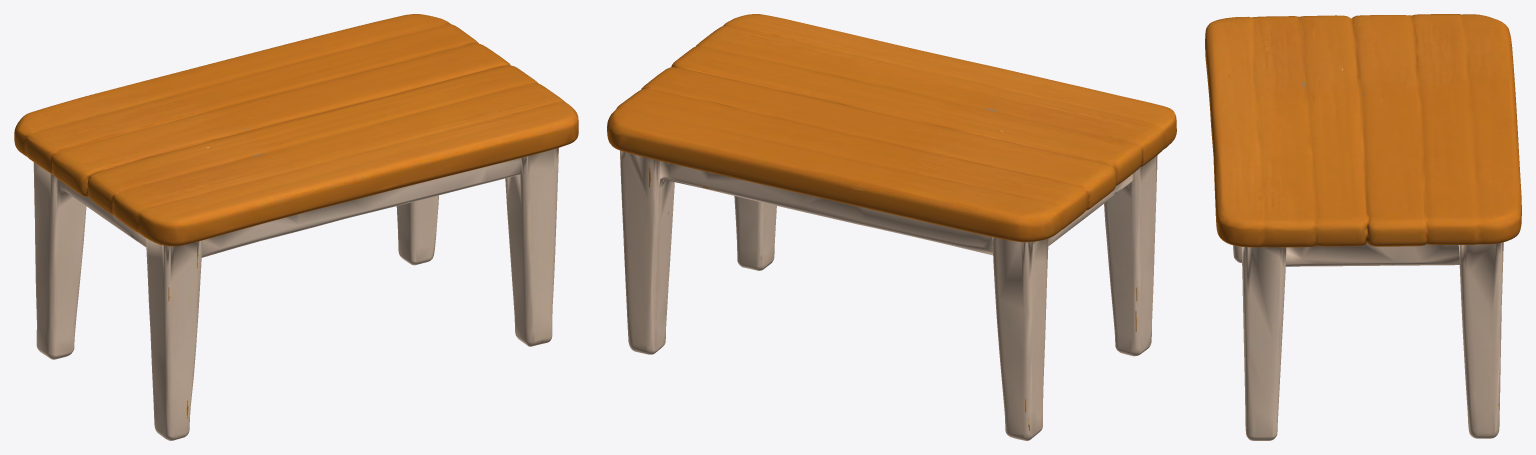
Rendered from table_light.glb.
The picture shows the model from 3 angles, left to right: view 1: azimuth 30°, elevation 25°; view 2: azimuth 150°, elevation 25°; view 3: azimuth 270°, elevation 25°; orthographic projection. The views are drawn at different scales.
Parts seen in each view (by area): view 1: table_light; view 2: table_light; view 3: table_light.
Part boxes in pixels (<box>): table_light: <box>14,14,578,440</box>; table_light: <box>607,14,1176,440</box>; table_light: <box>1205,14,1521,440</box>.
Size of the model in its own units: 1.51 by 0.76 by 0.9459.
1 material, 1 textured.
